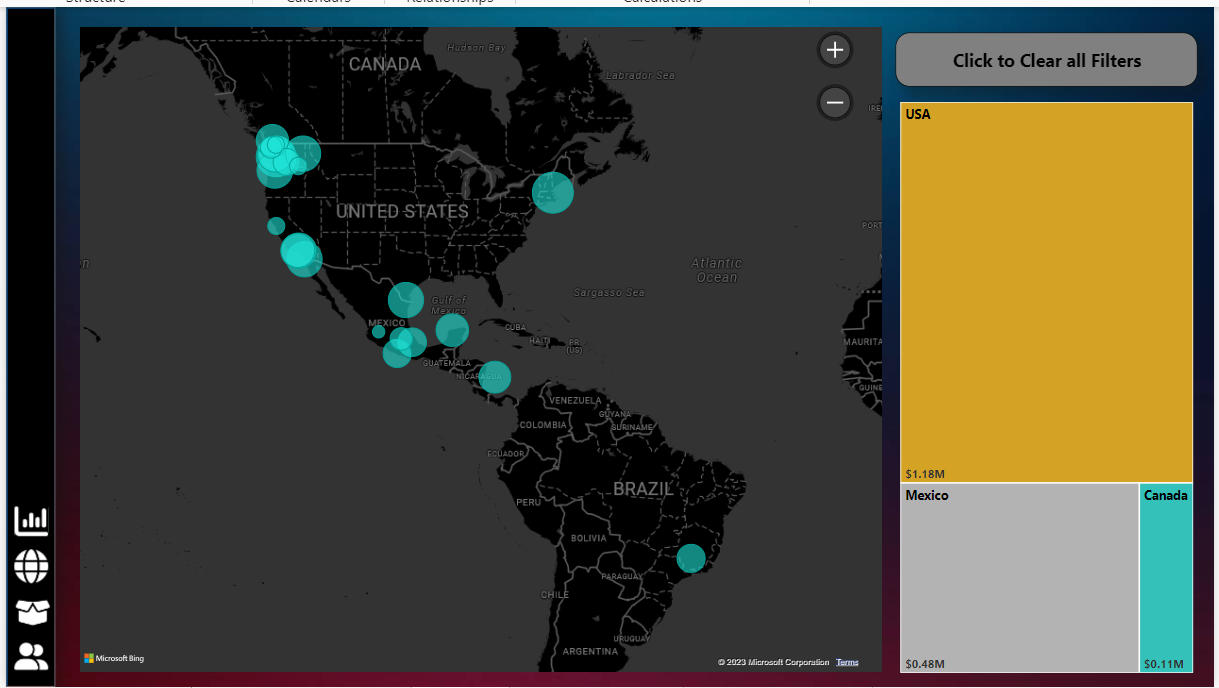

What the dashboard file says about the page in this screenshot:
{"tool":"powerbi","page":{"name":"Map","canvas":[1280,720],"ordinal":1},"visuals":[{"type":"shape","box":[0,0,51.9,720],"z":0},{"type":"actionButton","box":[5.5,522.5,45,43.8],"z":0,"group":"g1"},{"type":"map","fields":{"Size":["Measures Table.Total Revenue"],"Category":["Stores.store_city"]},"box":[72.5,16.2,860,693.8],"z":1000},{"type":"actionButton","box":[5.5,570.2,45,43.8],"z":1000,"group":"g1"},{"type":"treemap","fields":{"Group":["Customers.customer_country"],"Values":["Measures Table.Total Revenue"]},"box":[942.5,95,320,615],"z":2000},{"type":"actionButton","box":[6.7,619.7,45,43.8],"z":2000,"group":"g1"},{"type":"actionButton","box":[942.5,26.2,320,57.5],"z":3000},{"type":"actionButton","box":[5.5,665.5,45,43.8],"z":3000,"group":"g1"},{"type":"group","id":"g1","title":"Nav Icons","box":[5.5,522.5,46.2,186.8],"z":4000}]}

Visuals, with their boxes on the page's 1280x720 design canvas (x1, y1, x2, y2). These are canvas units, not pixel positions in the 1219x688 screenshot, which may show the page scaled, cropped or inside an application window:
shape: pyautogui.locateOnScreen(0, 0, 52, 720)
actionButton: pyautogui.locateOnScreen(6, 522, 50, 566)
map - Measures Table.Total Revenue x Stores.store_city: pyautogui.locateOnScreen(72, 16, 932, 710)
actionButton: pyautogui.locateOnScreen(6, 570, 50, 614)
treemap - Customers.customer_country x Measures Table.Total Revenue: pyautogui.locateOnScreen(942, 95, 1262, 710)
actionButton: pyautogui.locateOnScreen(7, 620, 52, 664)
actionButton: pyautogui.locateOnScreen(942, 26, 1262, 84)
actionButton: pyautogui.locateOnScreen(6, 666, 50, 709)
"Nav Icons" group: pyautogui.locateOnScreen(6, 522, 52, 709)
